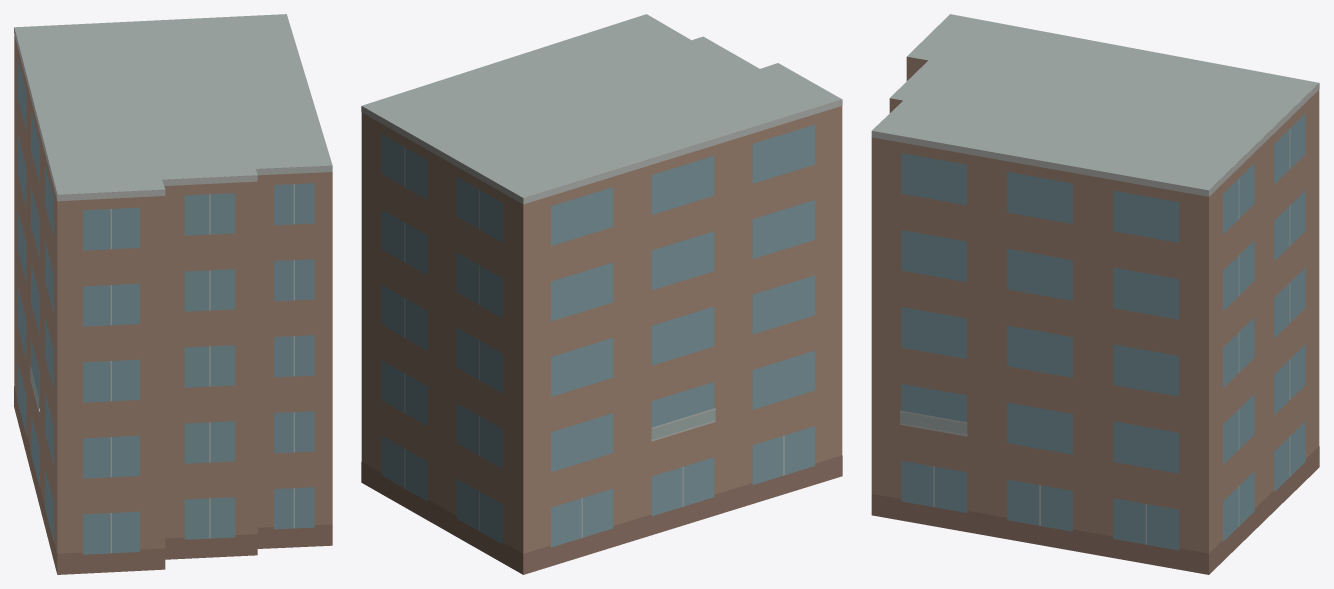
File: survey-upis-32531029.glb
The picture shows the model from 3 angles, left to right: view 1: azimuth 30°, elevation 25°; view 2: azimuth 150°, elevation 25°; view 3: azimuth 270°, elevation 25°; orthographic projection. The views are drawn at different scales.
Visible parts, largest first — view 1: survey-upis-32531029.tmp; view 2: survey-upis-32531029.tmp; view 3: survey-upis-32531029.tmp.
Boxes of the visible parts, bbox=[...] form: survey-upis-32531029.tmp: bbox=[14, 14, 332, 574]; survey-upis-32531029.tmp: bbox=[361, 14, 842, 574]; survey-upis-32531029.tmp: bbox=[871, 14, 1319, 574].
Bounding box in the file's own units: 14.18 × 14.4 × 15.21.
